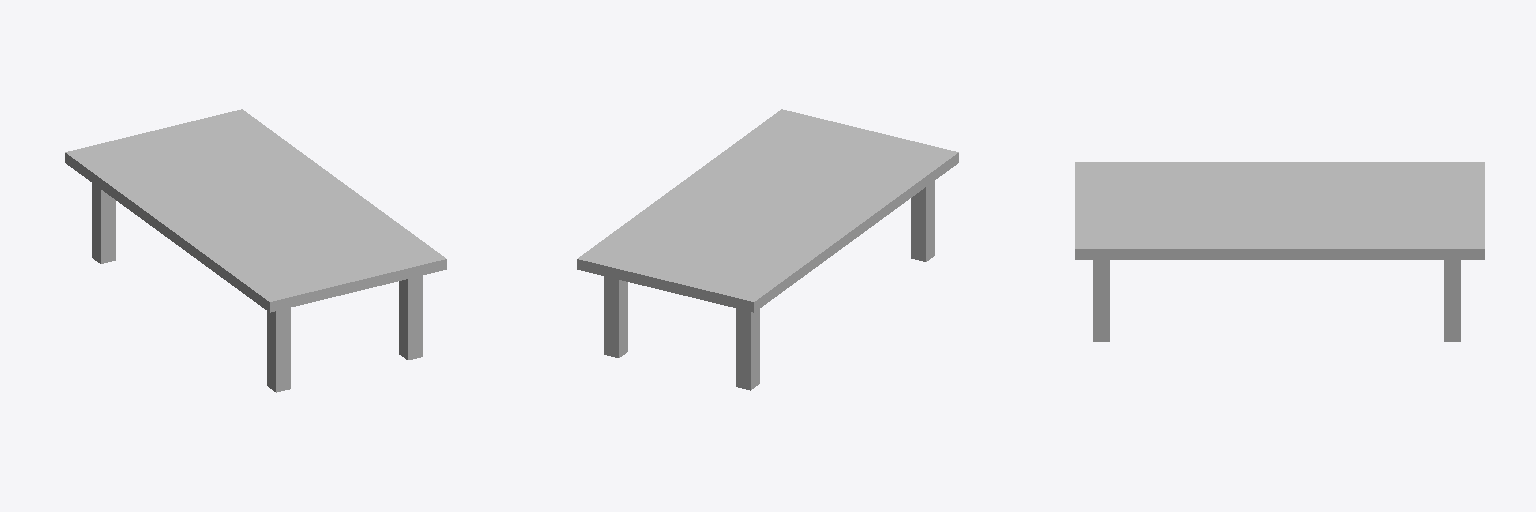
Rendered from OperatingTable.obj.
3 views of the same model, side by side, from view 1: azimuth 30°, elevation 25°; view 2: azimuth 150°, elevation 25°; view 3: azimuth 270°, elevation 25° (orthographic).
Visible parts, largest first — view 1: OperatingTable; view 2: OperatingTable; view 3: OperatingTable.
Part boxes in pixels (bbox=[...]): OperatingTable: bbox=[65, 109, 446, 392]; OperatingTable: bbox=[577, 109, 958, 390]; OperatingTable: bbox=[1075, 162, 1484, 341].
Size of the model in its own units: 1.75 by 0.95 by 3.5.